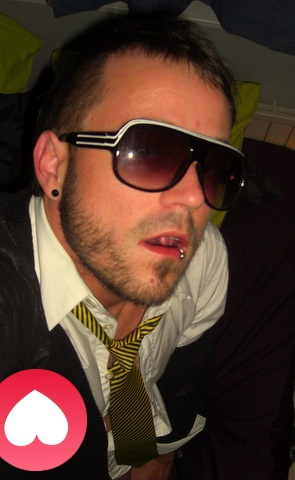love: (0, 369, 87, 471)
